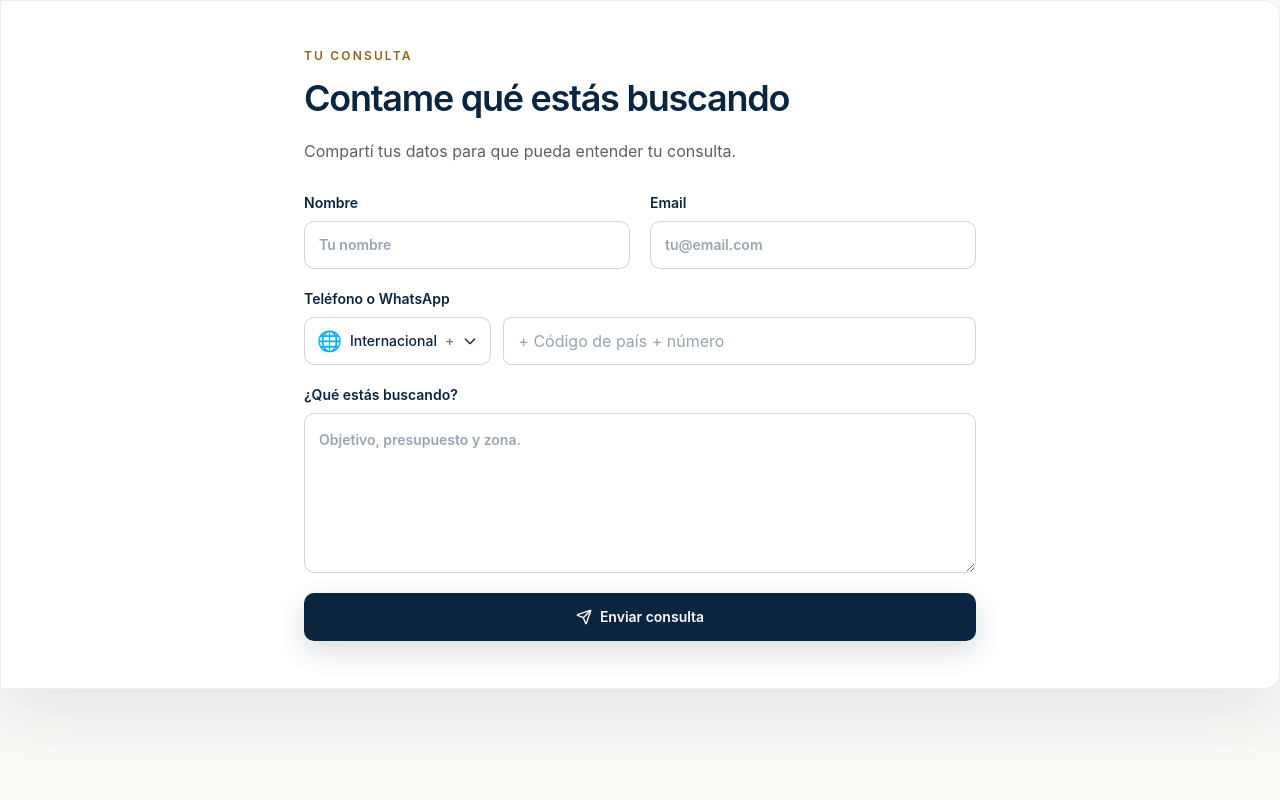
Test: ContactForm › keeps a pending submission accessible and prevents a second request
Type "Casey Example" into the field labelled "Nombre". click: [467, 245]
box: [304,221,630,269]
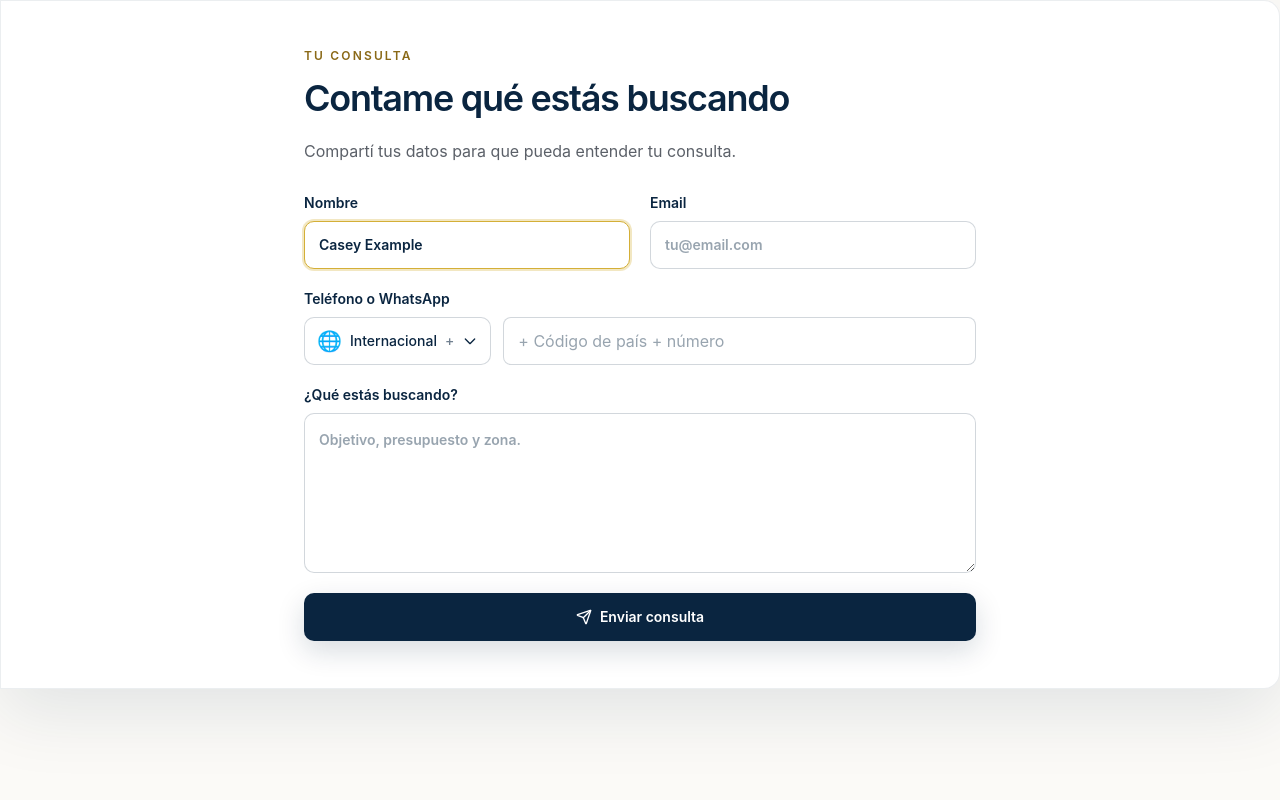
Type "casey@example.com" into the field labelled "Email". click: [813, 245]
box: [650,221,976,269]
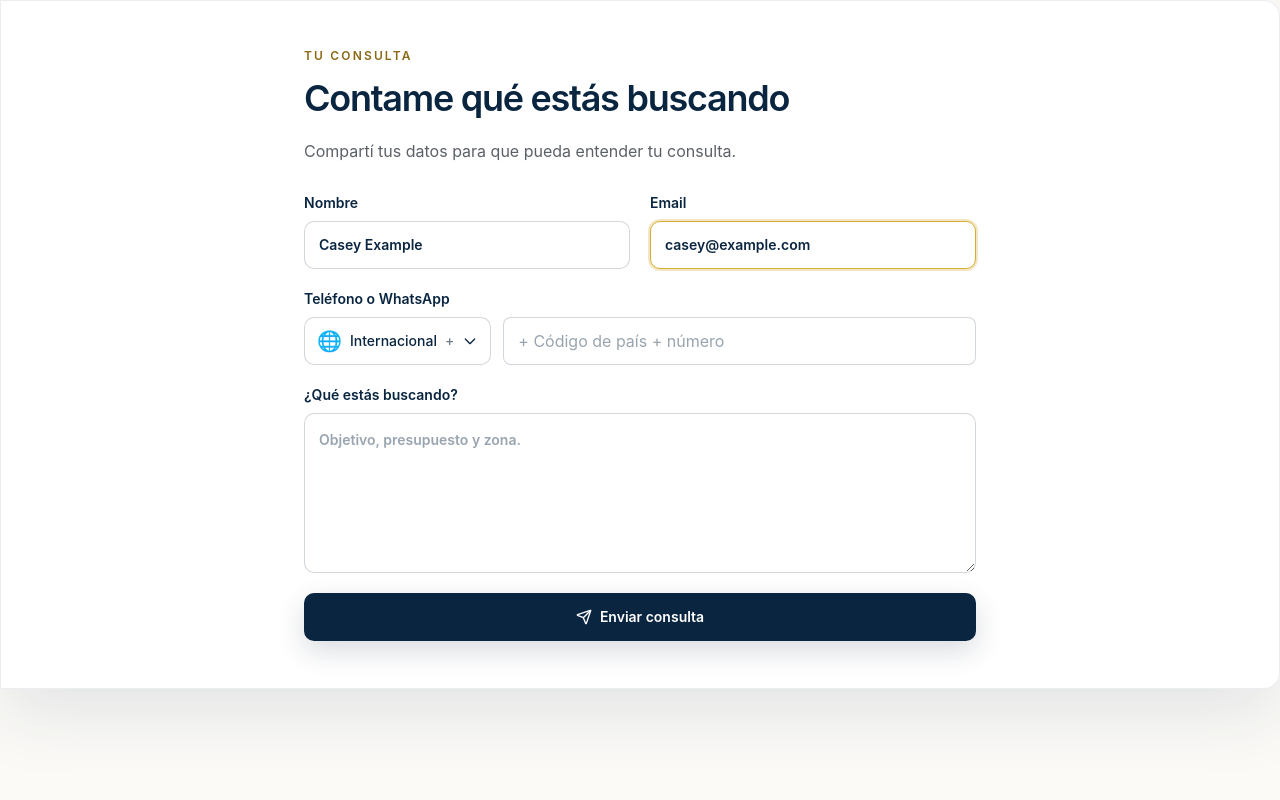
Type "+12025550123" into the field labelled "Teléfono o WhatsApp". click: [740, 341]
box: [503,317,976,365]
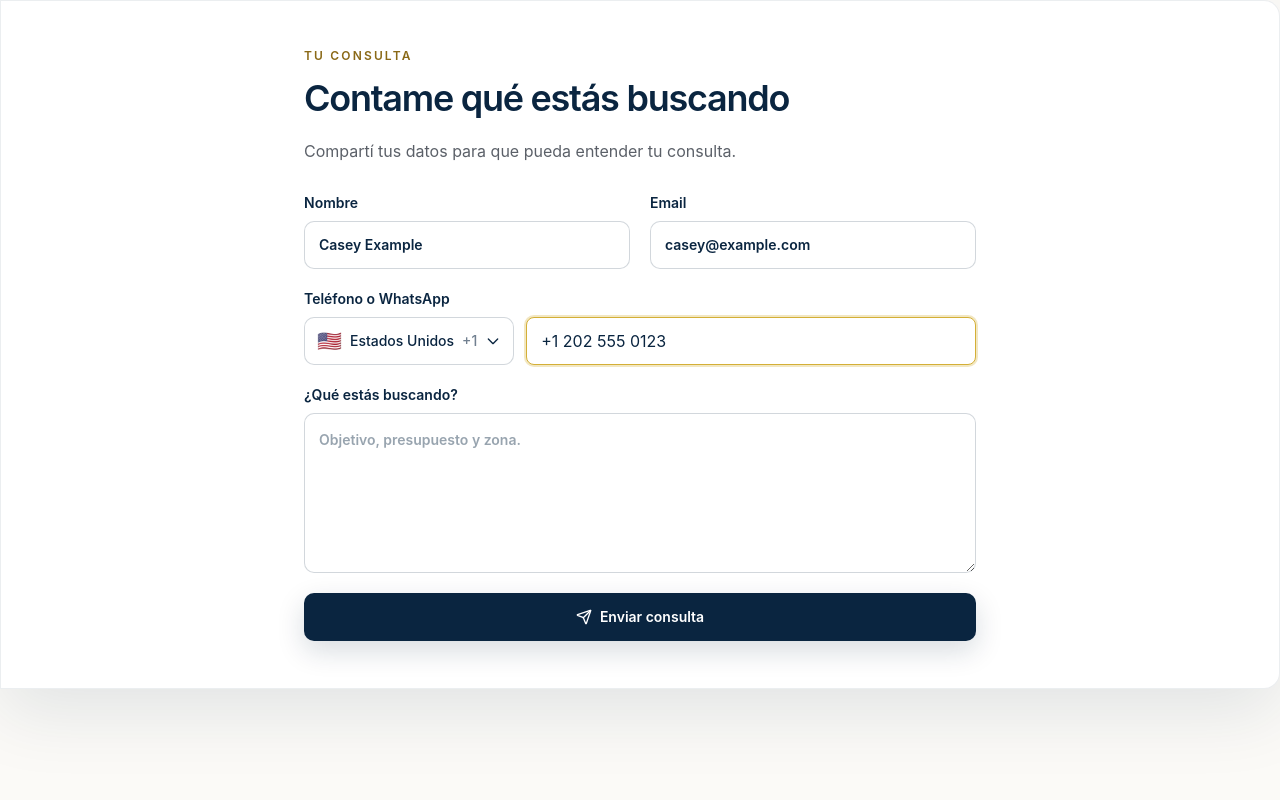
Type "I am testing a fictional Miami inquiry." into the text box labelled "¿Qué estás buscando?". click: [640, 493]
box: [304,413,976,573]
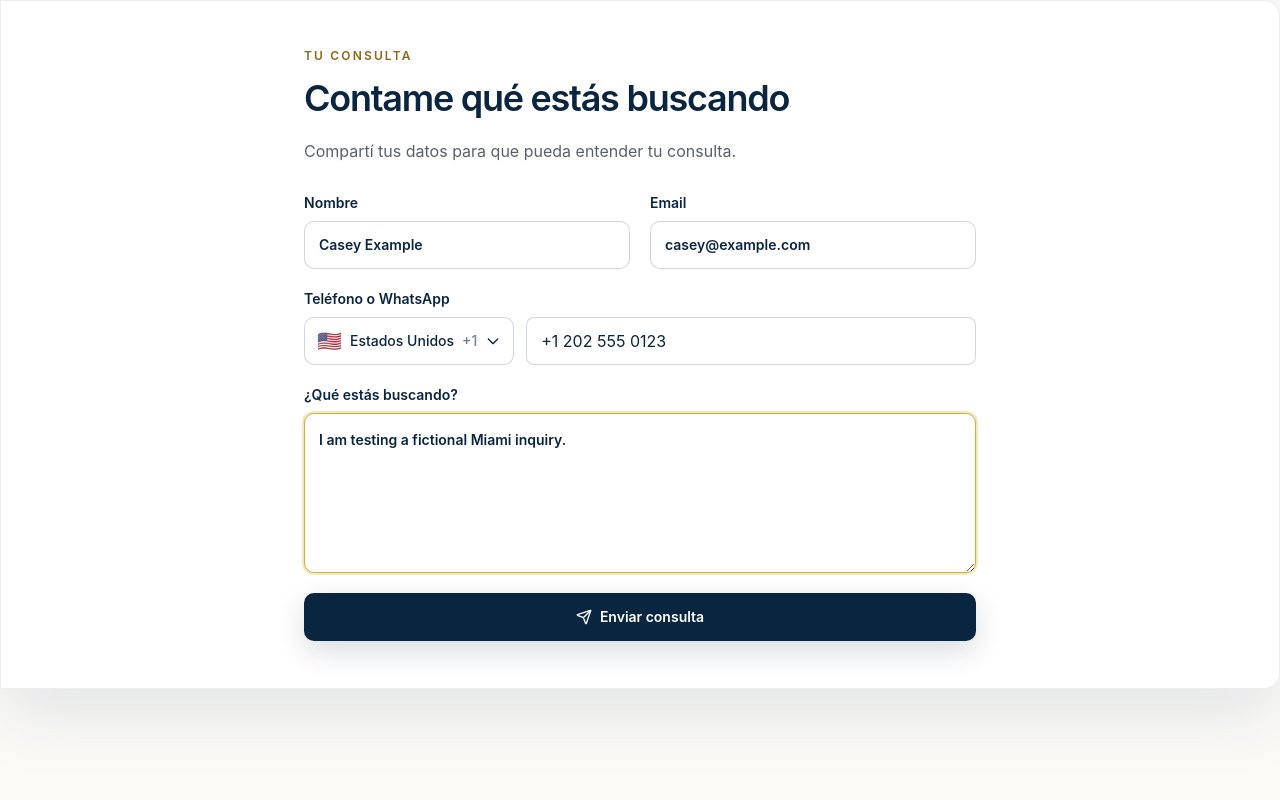
Click the button "Enviar consulta". click: [640, 617]
box: [304,593,976,641]
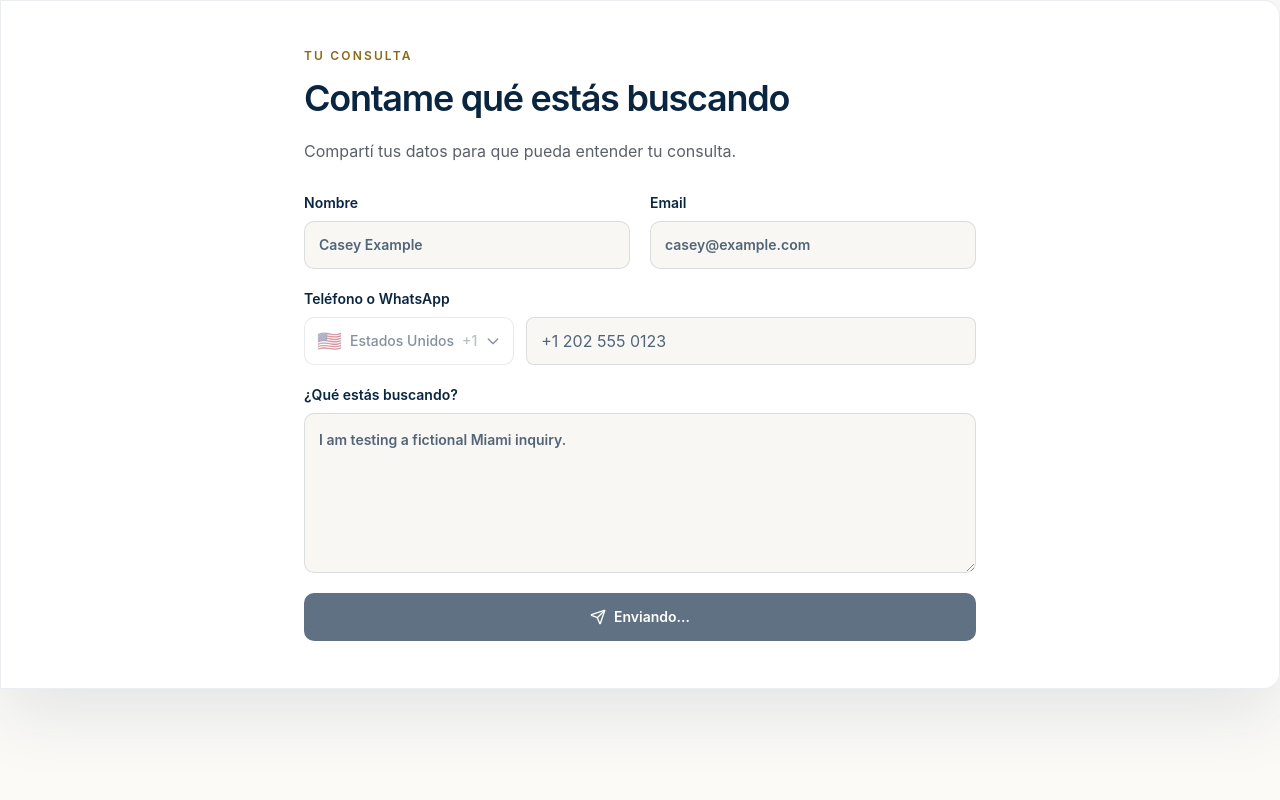
Now the button "Enviando..." is disabled
Click the button "Enviando...". click: [640, 617]
box: [304,593,976,641]
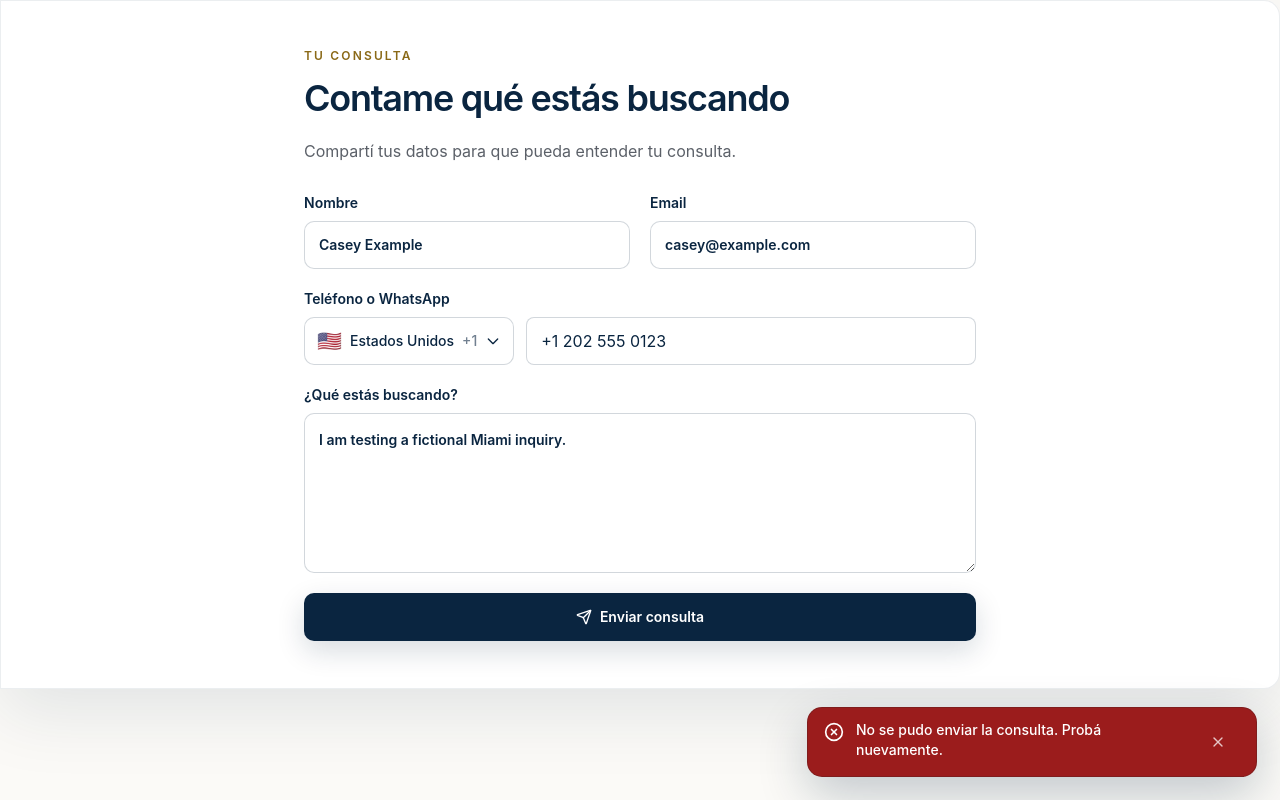
Now the text "No se pudo enviar la consulta. Probá nuevamente." is shown, box [856,721,1101,758]
